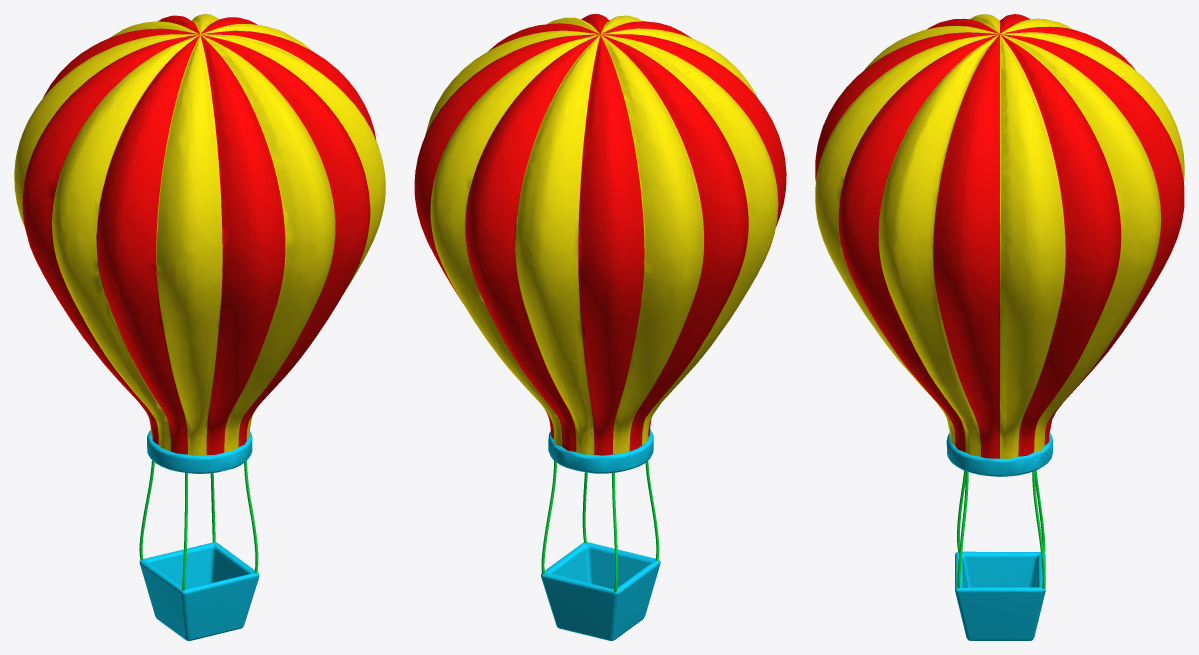
The model's file is Baloon_High.FBX.
3 views of the same model, side by side, from view 1: azimuth 30°, elevation 25°; view 2: azimuth 150°, elevation 25°; view 3: azimuth 270°, elevation 25° (orthographic).
Parts seen in each view (by area): view 1: baloon; view 2: baloon; view 3: baloon.
Part boxes in pixels (left/top/right/bottom): baloon: left=14, top=14, right=385, bottom=640; baloon: left=414, top=14, right=786, bottom=640; baloon: left=815, top=14, right=1184, bottom=640.
Size of the model in its own units: 1123 by 1995 by 1124.
